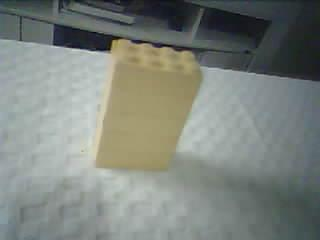lego: (91, 37, 205, 171)
